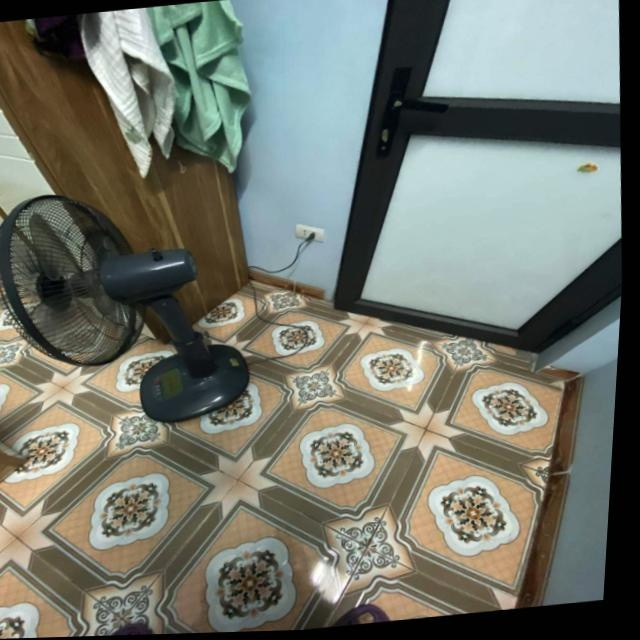outlet: (293, 220, 325, 245)
